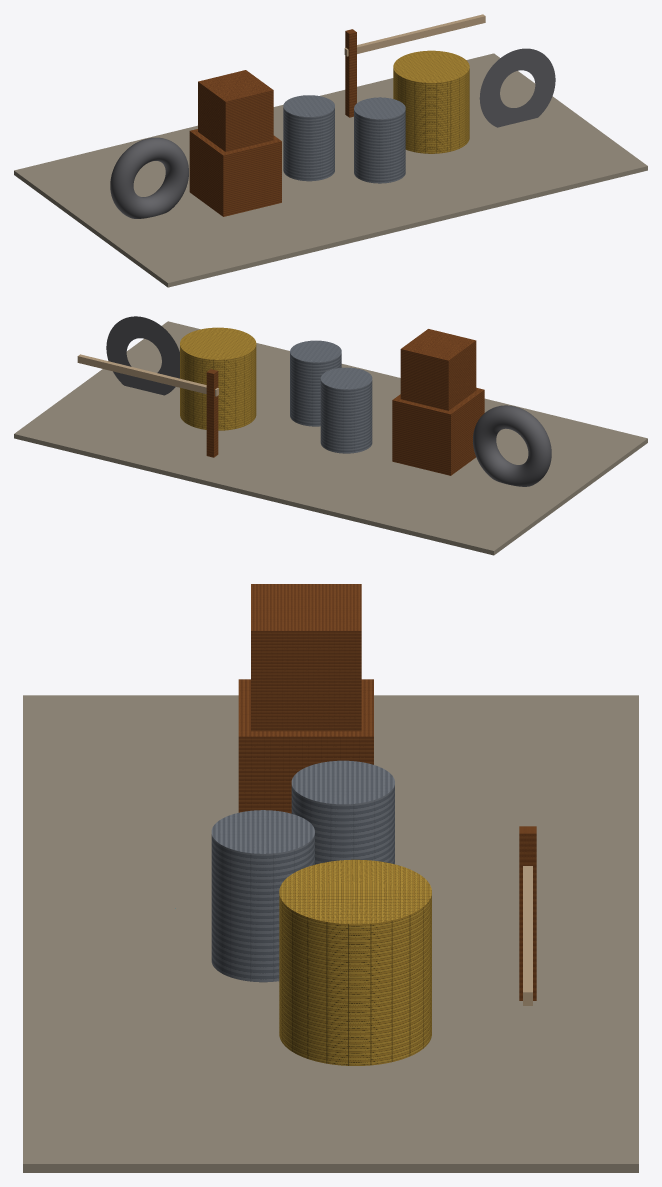
File: clunk-messy-sample.glb
3 views of the same model, one above another, from view 1: azimuth 30°, elevation 25°; view 2: azimuth 150°, elevation 25°; view 3: azimuth 270°, elevation 25° (orthographic). The views are drawn at different scales.
Parts seen in each view (by area): view 1: Ground, HayBale, Crate_A, Crate_B, Barrel_Steel_001, Wheel_Front, Barrel_Steel, Wheel_Rear, FenceRail, FencePost; view 2: Ground, HayBale, Crate_A, Crate_B, Barrel_Steel, Wheel_Front, Barrel_Steel_001, Wheel_Rear, FenceRail, FencePost; view 3: Ground, HayBale, Crate_B, Barrel_Steel_001, Barrel_Steel, Crate_A, FencePost, FenceRail.
Part boxes in pixels (x1,y1,x2,y2): Ground: (14, 53, 647, 287); HayBale: (393, 50, 469, 153); Crate_A: (189, 129, 281, 216); Crate_B: (198, 70, 273, 151); Barrel_Steel_001: (354, 97, 405, 183); Wheel_Front: (110, 137, 188, 218); Barrel_Steel: (283, 95, 334, 181); Wheel_Rear: (479, 48, 555, 127); FenceRail: (344, 14, 485, 56); FencePost: (345, 29, 356, 117); Ground: (14, 321, 647, 555); HayBale: (180, 327, 256, 430); Crate_A: (392, 387, 484, 475); Crate_B: (400, 329, 476, 410); Barrel_Steel: (320, 367, 372, 453); Wheel_Front: (473, 405, 551, 486); Barrel_Steel_001: (290, 340, 341, 426); Wheel_Rear: (106, 316, 179, 395); FenceRail: (77, 354, 218, 396); FencePost: (206, 369, 218, 457); Ground: (23, 695, 638, 1172); HayBale: (279, 859, 431, 1065); Crate_B: (251, 584, 361, 731); Barrel_Steel_001: (211, 810, 314, 982); Barrel_Steel: (291, 760, 394, 864); Crate_A: (238, 679, 373, 813); FencePost: (519, 826, 536, 1000); FenceRail: (523, 866, 532, 1005).
Bounding box in the file's own units: 9 × 2.11 × 5.
11 materials, 6 textured.
